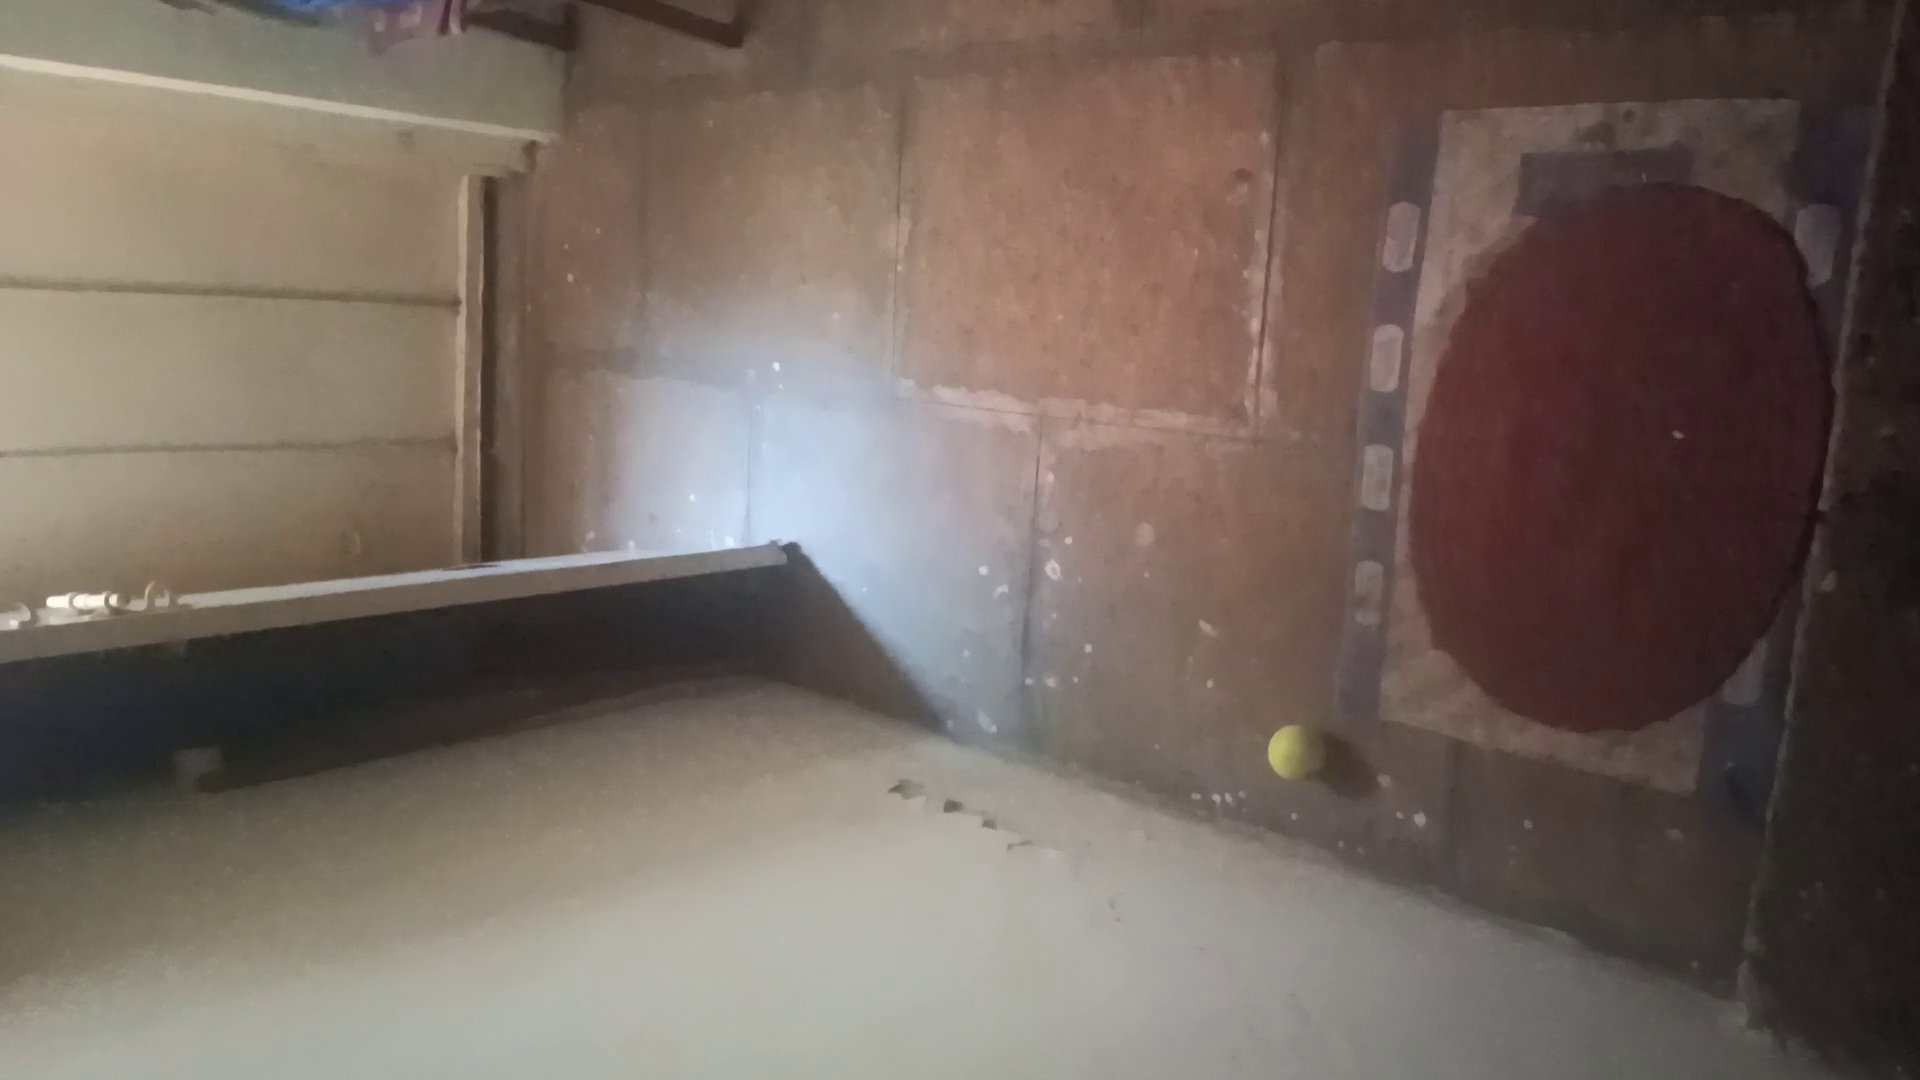Tennis-Ball: (1269, 724, 1325, 779)
